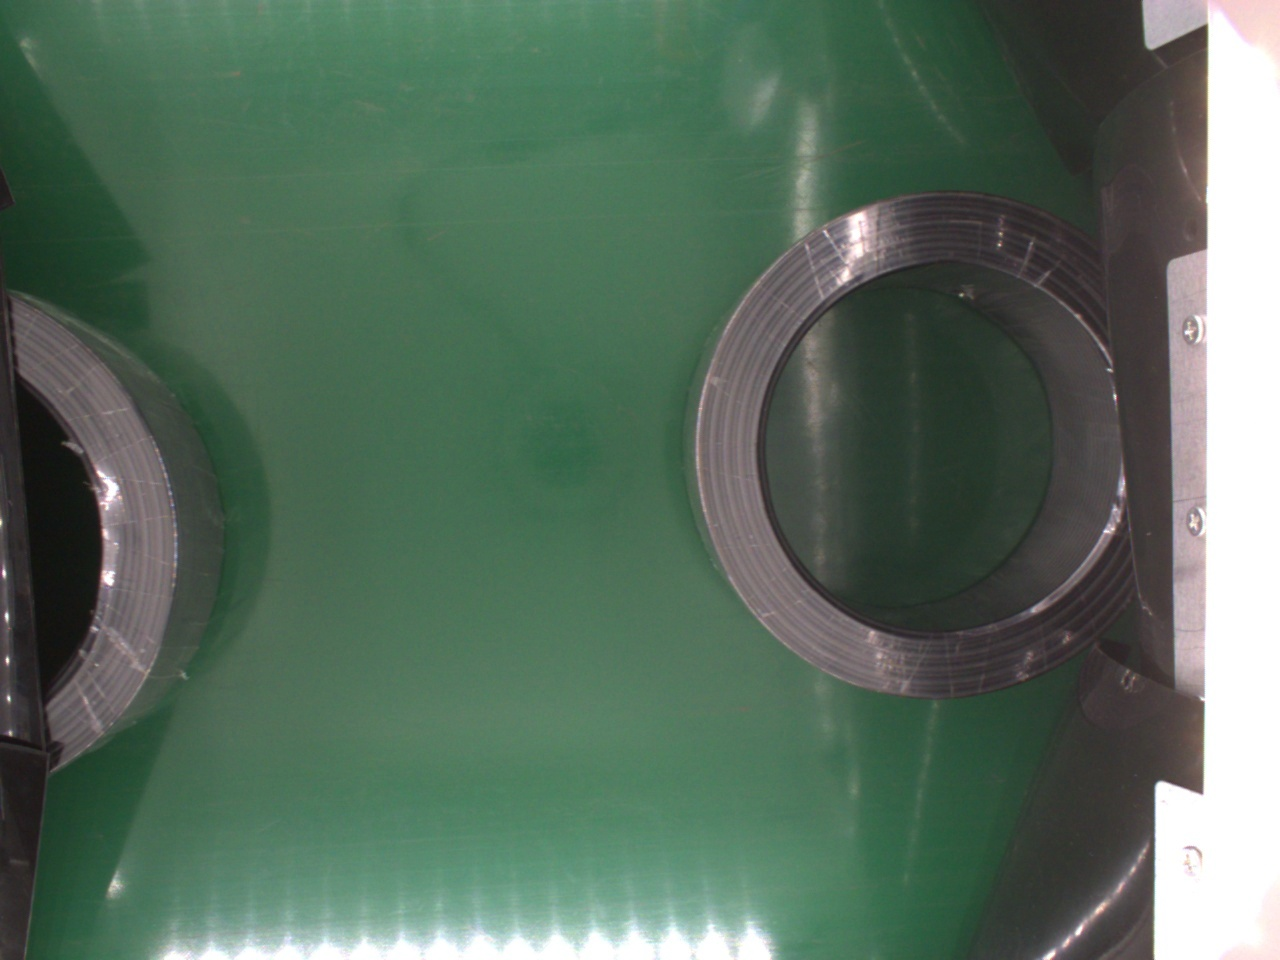black: (691, 189, 1140, 699), (8, 288, 208, 763)
